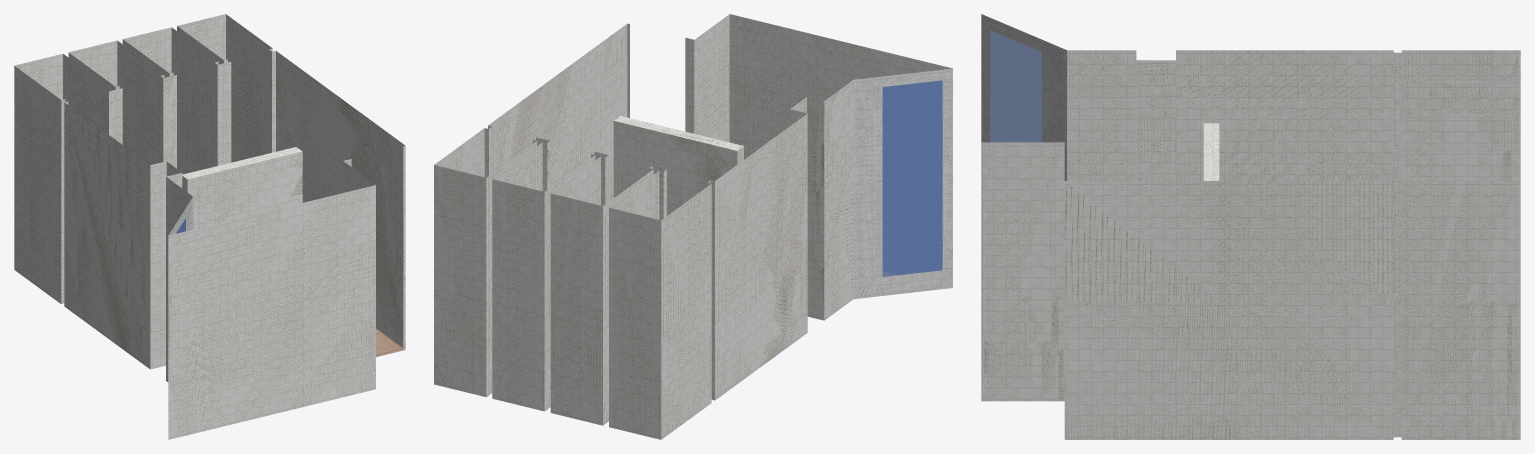
Rendered from COM004.obj.
3 renders of one model, left to right at view 1: azimuth 30°, elevation 25°; view 2: azimuth 150°, elevation 25°; view 3: azimuth 270°, elevation 25°, orthographic. The views are drawn at different scales.
Parts seen in each view (by area): view 1: Mesh1 COM004 Model; view 2: Mesh1 COM004 Model; view 3: Mesh1 COM004 Model.
Part boxes in pixels (<box>): Mesh1 COM004 Model: <box>14,14,405,439</box>; Mesh1 COM004 Model: <box>434,14,952,439</box>; Mesh1 COM004 Model: <box>981,14,1520,439</box>.
Bounding box in the file's own units: 4.98 × 3.6 × 6.8.
5 materials, 3 textured.
